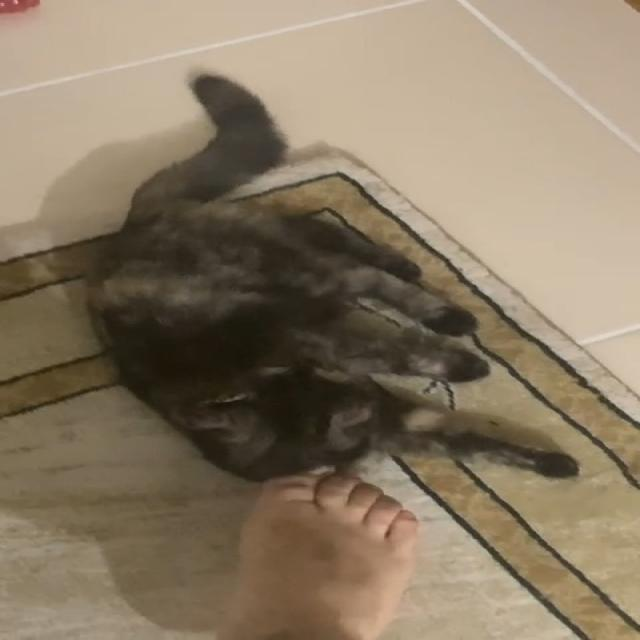authorized: (81, 69, 580, 484)
